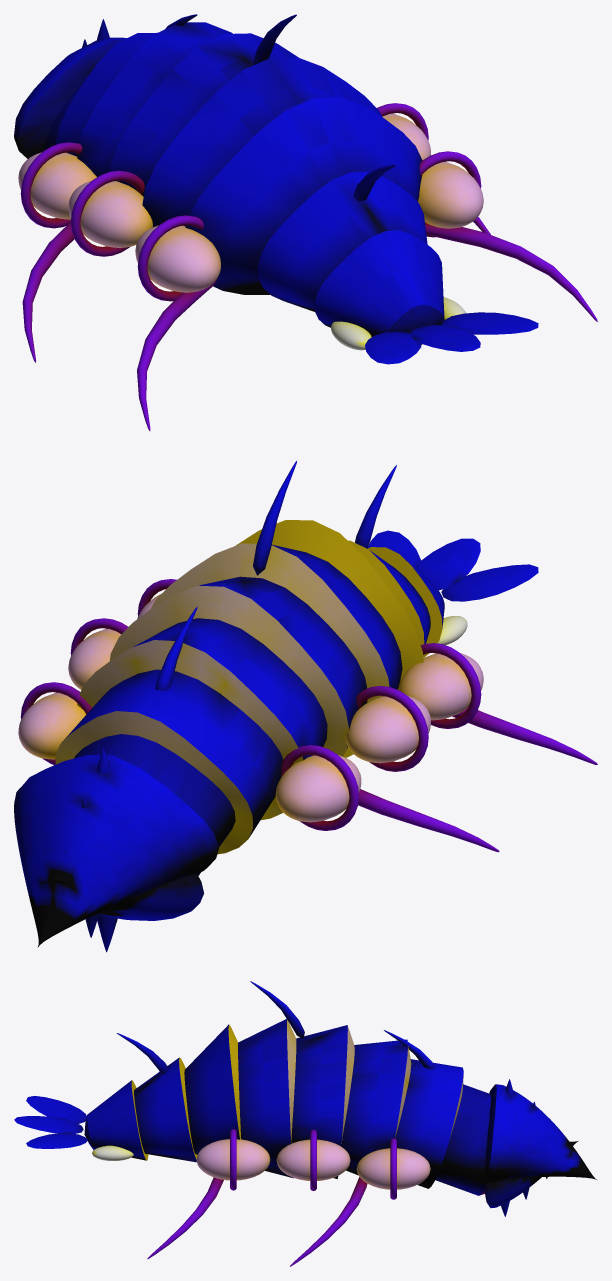
File: craigon_chrysalis_carrier.fbx
3 views of the same model, one above another, from view 1: azimuth 30°, elevation 25°; view 2: azimuth 150°, elevation 25°; view 3: azimuth 270°, elevation 25° (orthographic). The views are drawn at different scales.
Visible parts, largest first — view 1: craigon_chrysalis_carrier; view 2: craigon_chrysalis_carrier; view 3: craigon_chrysalis_carrier.
Part boxes in pixels (box(x1,y1,x2,y2)): craigon_chrysalis_carrier: box(14, 14, 597, 430); craigon_chrysalis_carrier: box(14, 461, 597, 952); craigon_chrysalis_carrier: box(14, 981, 597, 1266).
Bounding box in the file's own units: 1.41 × 1.03 × 2.3.
